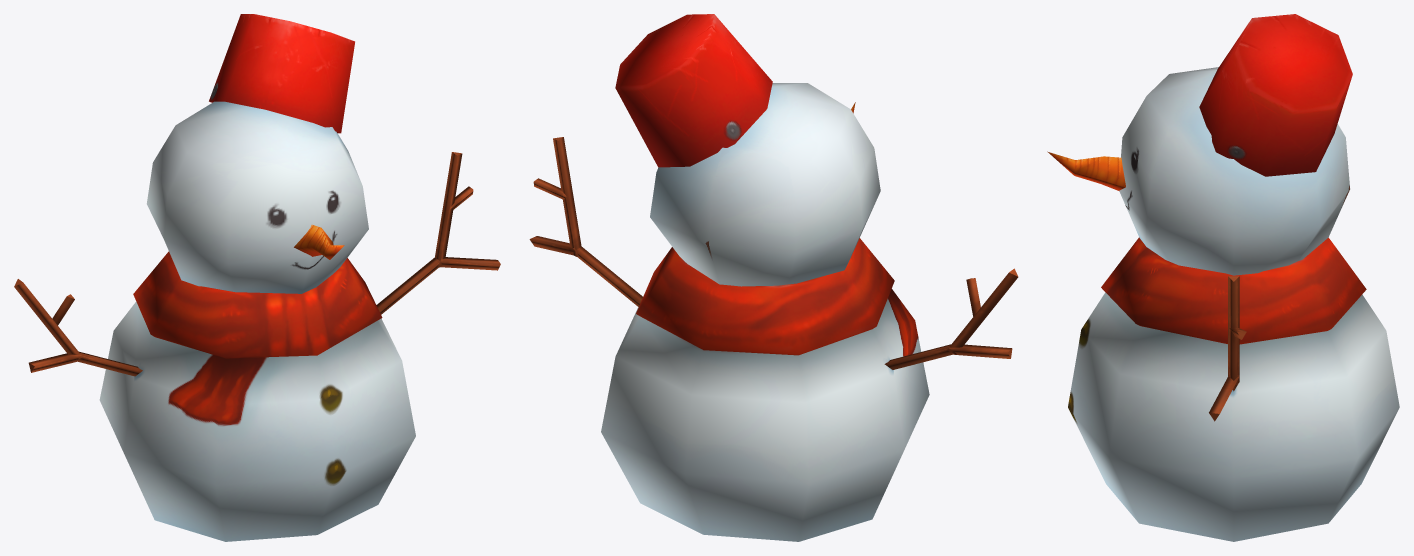
The model's file is Snowman_001.FBX.
3 views of the same model, side by side, from view 1: azimuth 30°, elevation 25°; view 2: azimuth 150°, elevation 25°; view 3: azimuth 270°, elevation 25° (orthographic). The views are drawn at different scales.
Parts seen in each view (by area): view 1: Snowman_001; view 2: Snowman_001; view 3: Snowman_001.
Boxes of the visible parts, x1,y1,x2,y2 form: Snowman_001: (14,14,500,541); Snowman_001: (529,14,1018,541); Snowman_001: (1047,14,1399,541).
Bounding box in the file's own units: 6.16 × 5.9 × 3.67.
